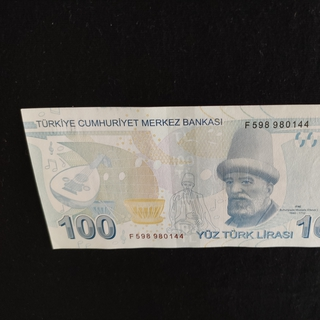100TLBack: (20, 103, 320, 249)
